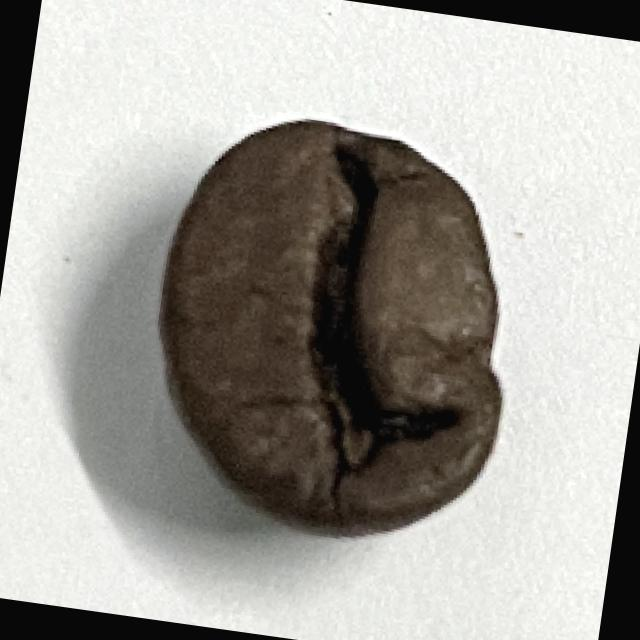bean: (128, 100, 546, 560)
